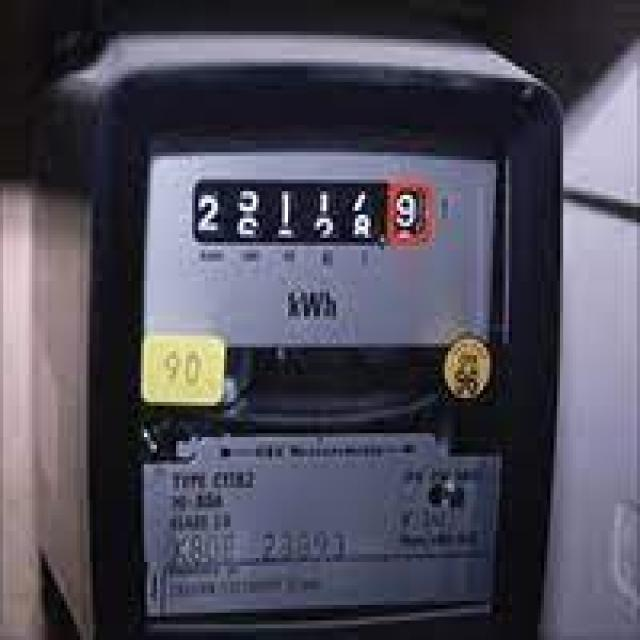1: (272, 189, 305, 227)
2: (193, 191, 227, 235)
9: (390, 189, 425, 235)
analog meter: (190, 183, 451, 242)
